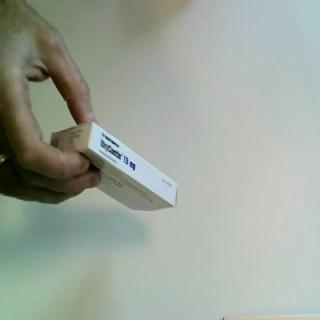oxycontin15mg: (49, 121, 179, 213)
